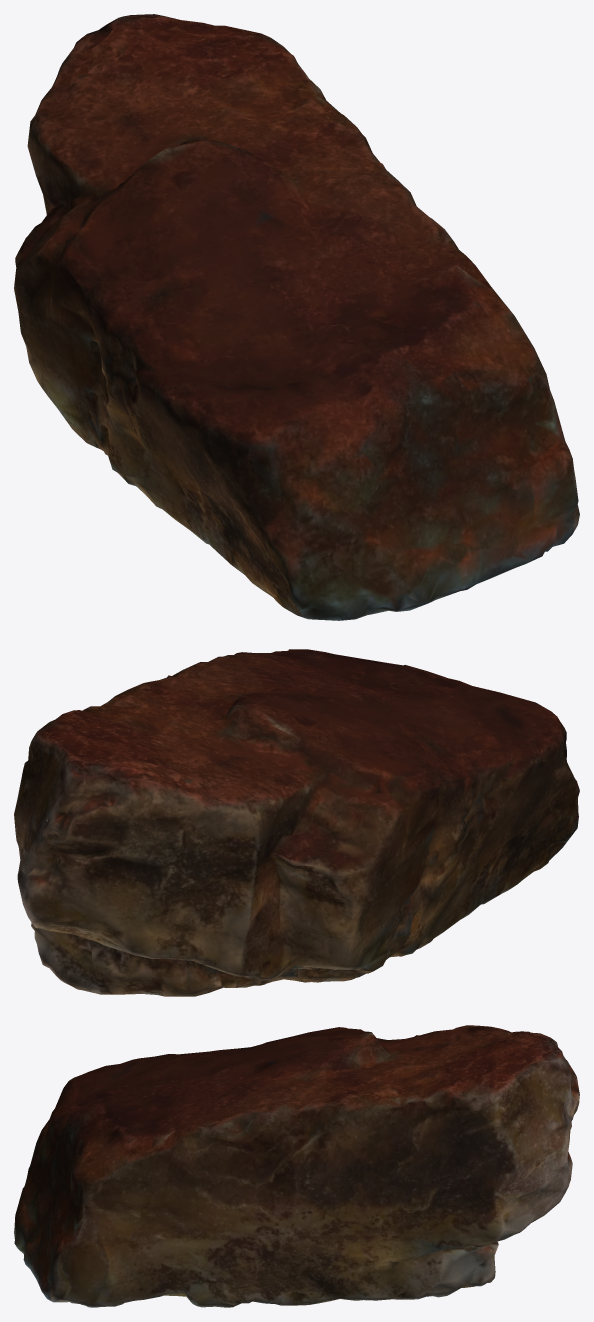
The model's file is rock_07.glb.
3 renders of one model, top to bottom at view 1: azimuth 30°, elevation 25°; view 2: azimuth 150°, elevation 25°; view 3: azimuth 270°, elevation 25°, orthographic. The views are drawn at different scales.
Parts seen in each view (by area): view 1: rock_07; view 2: rock_07; view 3: rock_07.
Boxes of the visible parts, x1=… form: rock_07: x1=14, y1=14, x2=579, y2=620; rock_07: x1=14, y1=649, x2=579, y2=996; rock_07: x1=14, y1=1025, x2=579, y2=1307.
Bounding box in the file's own units: 0.1686 × 0.1437 × 0.3202.
1 material, 1 textured.
